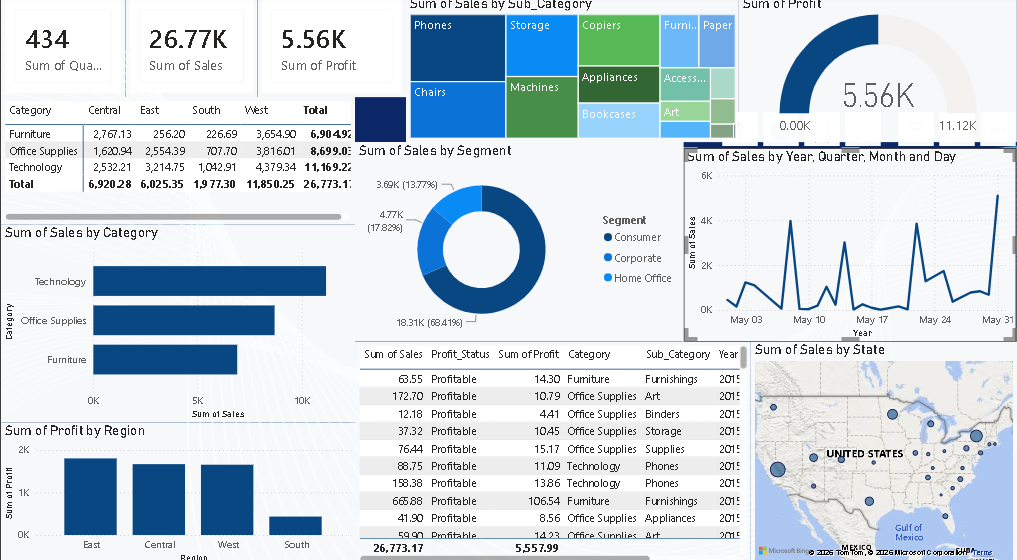

The dashboard page shown, as its layout file describes it:
{"tool":"powerbi","page":{"name":"Dashboard","canvas":[1280,720],"ordinal":0},"visuals":[{"type":"cardVisual","fields":{"Data":["Sum(Sample - Superstore.Sales)"]},"box":[156.9,0,166.3,128.5],"z":0},{"type":"cardVisual","fields":{"Data":["Sum(Sample - Superstore.Profit)"]},"box":[323.2,0,187.1,128.5],"z":1000},{"type":"cardVisual","fields":{"Data":["Sum(Sample - Superstore.Quantity)"]},"box":[0,0,156.9,128.5],"z":2000},{"type":"clusteredBarChart","fields":{"Category":["Sample - Superstore.Category"],"Y":["Sum(Sample - Superstore.Sales)"]},"box":[0,289.1,446,249.5],"z":2001},{"type":"clusteredColumnChart","fields":{"Category":["Sample - Superstore.Region"],"Y":["Sum(Sample - Superstore.Profit)"]},"box":[0,538.6,446,181.4],"z":2002},{"type":"lineChart","fields":{"Category":["Sample - Superstore.Order Date.Variation.Date Hierarchy.Year","Sample - Superstore.Order Date.Variation.Date Hierarchy.Quarter","Sample - Superstore.Order Date.Variation.Date Hierarchy.Month","Sample - Superstore.Order Date.Variation.Date Hierarchy.Day"],"Y":["Sum(Sample - Superstore.Sales)"]},"box":[859.8,192.8,419.5,243.8],"z":2003},{"type":"donutChart","fields":{"Category":["Sample - Superstore.Segment"],"Y":["Sum(Sample - Superstore.Sales)"]},"box":[446,185.2,413.9,251.3],"z":2004},{"type":"tableEx","fields":{"Values":["Sum(Sample - Superstore.Sales)","Sample - Superstore.Profit_Status","Sum(Sample - Superstore.Profit)","Sample - Superstore.Category","Sample - Superstore.Sub_Category","Sample - Superstore.Order Date.Variation.Date Hierarchy.Year","Sample - Superstore.Order Date.Variation.Date Hierarchy.Quarter","Sample - Superstore.Order Date.Variation.Date Hierarchy.Month","Sample - Superstore.Order Date.Variation.Date Hierarchy.Day"]},"box":[446,436.5,498.9,283.5],"z":2005},{"type":"pivotTable","fields":{"Rows":["Sample - Superstore.Category"],"Columns":["Sample - Superstore.Region"],"Values":["Sum(Sample - Superstore.Sales)"]},"box":[0,128.5,446,160.6],"z":2006},{"type":"map","fields":{"Category":["Sample - Superstore.State"],"Size":["Sum(Sample - Superstore.Sales)"]},"box":[945,437,335,283],"z":2007},{"type":"treemap","fields":{"Group":["Sample - Superstore.Sub_Category"],"Values":["Sum(Sample - Superstore.Sales)"]},"box":[510.2,0,419.5,185.2],"z":2008},{"type":"gauge","fields":{"Y":["Sum(Sample - Superstore.Profit)"]},"box":[930,0,350,185],"z":2009}]}

Visuals, with their boxes in screenshot pixels (x1, y1, x2, y2), scaled from the page's 1280x720 canvas onto the 1017x560 screenshot:
cardVisual - Sum(Sample - Superstore.Sales): BBox(125, 0, 257, 100)
cardVisual - Sum(Sample - Superstore.Profit): BBox(257, 0, 405, 100)
cardVisual - Sum(Sample - Superstore.Quantity): BBox(0, 0, 125, 100)
clusteredBarChart - Sample - Superstore.Category x Sum(Sample - Superstore.Sales): BBox(0, 225, 354, 419)
clusteredColumnChart - Sample - Superstore.Region x Sum(Sample - Superstore.Profit): BBox(0, 419, 354, 559)
lineChart - Sample - Superstore.Order Date.Variation.Date Hierarchy.Year x Sample - Superstore.Order Date.Variation.Date Hierarchy.Quarter: BBox(683, 150, 1016, 340)
donutChart - Sample - Superstore.Segment x Sum(Sample - Superstore.Sales): BBox(354, 144, 683, 340)
tableEx - Sum(Sample - Superstore.Sales) x Sample - Superstore.Profit_Status: BBox(354, 340, 751, 559)
pivotTable - Sample - Superstore.Category x Sample - Superstore.Region: BBox(0, 100, 354, 225)
map - Sample - Superstore.State x Sum(Sample - Superstore.Sales): BBox(751, 340, 1016, 559)
treemap - Sample - Superstore.Sub_Category x Sum(Sample - Superstore.Sales): BBox(405, 0, 739, 144)
gauge - Sum(Sample - Superstore.Profit): BBox(739, 0, 1016, 144)
